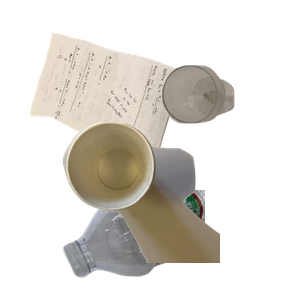glass: (159, 63, 300, 179)
paper: (27, 30, 203, 178)
plastic: (60, 190, 300, 280)
trash: (60, 120, 300, 300)
